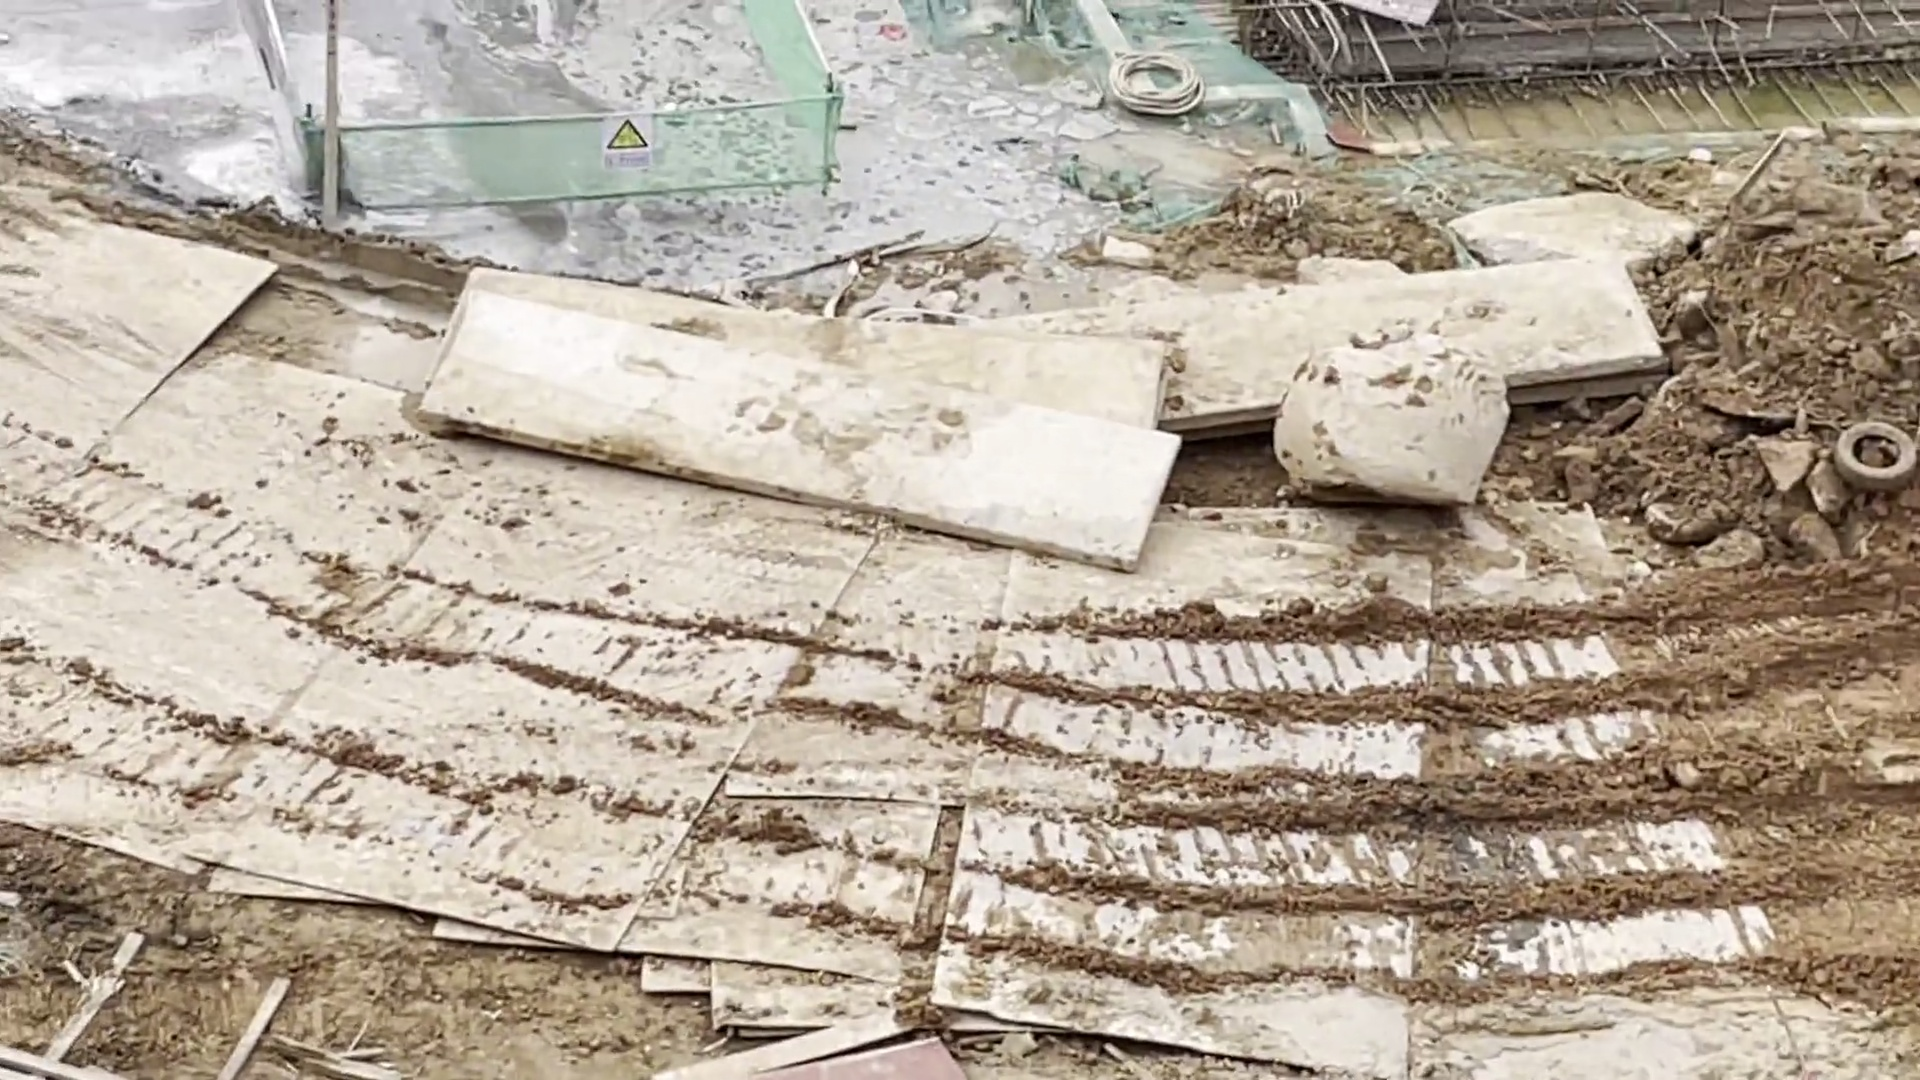slogan: (603, 112, 649, 167)
